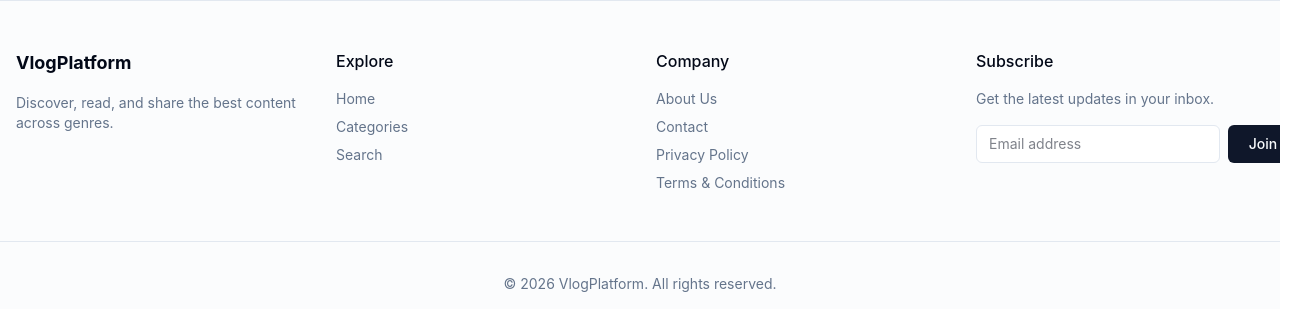
Scenario: Footer Component › submits newsletter successfully
In the field with placeholder "Email address": (1098, 144) [976,125,1220,163], type "test@example.com"
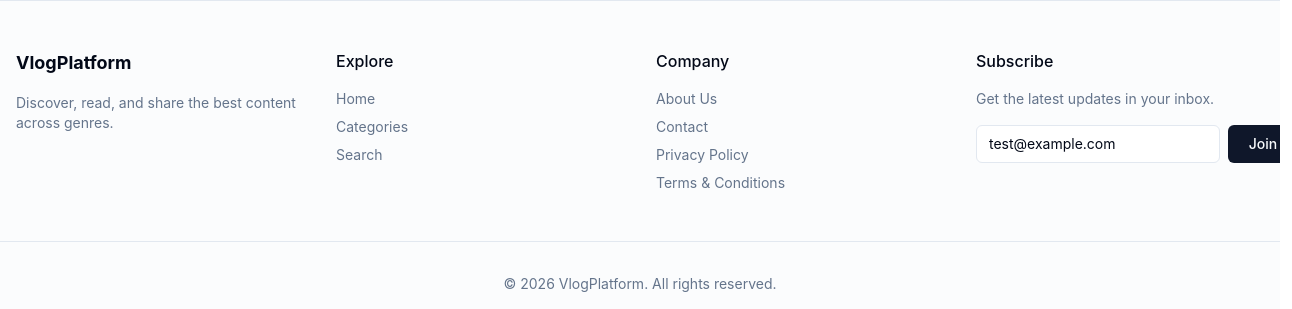
Click the button "Join": (1254, 144) [1228,125,1280,163]
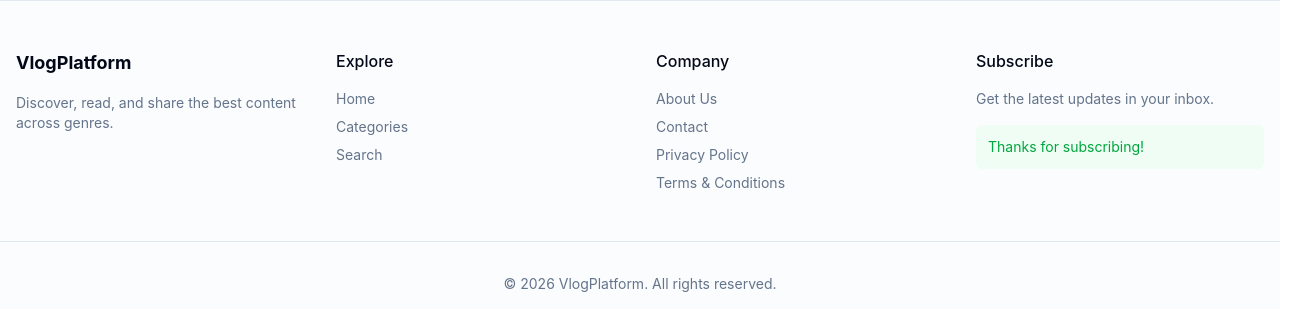
Expected: the text "Thanks for subscribing!" is shown, [976,125,1264,169]
